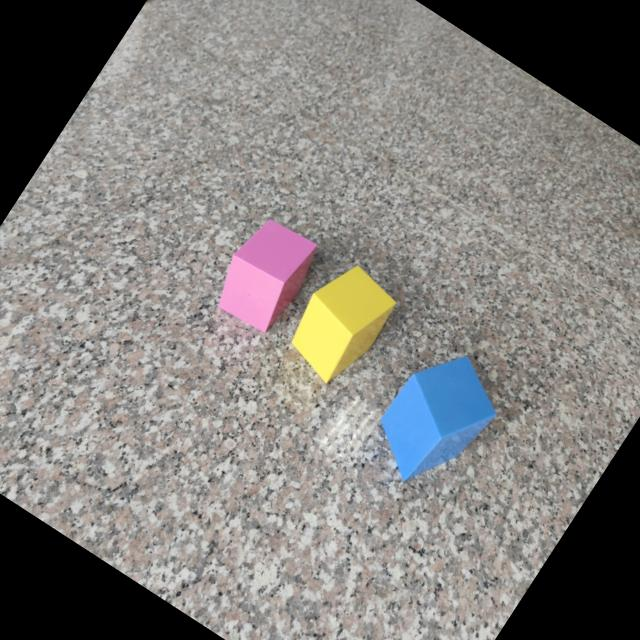blue: (378, 357, 492, 483)
pink: (216, 221, 316, 333)
yellow: (290, 267, 396, 384)
